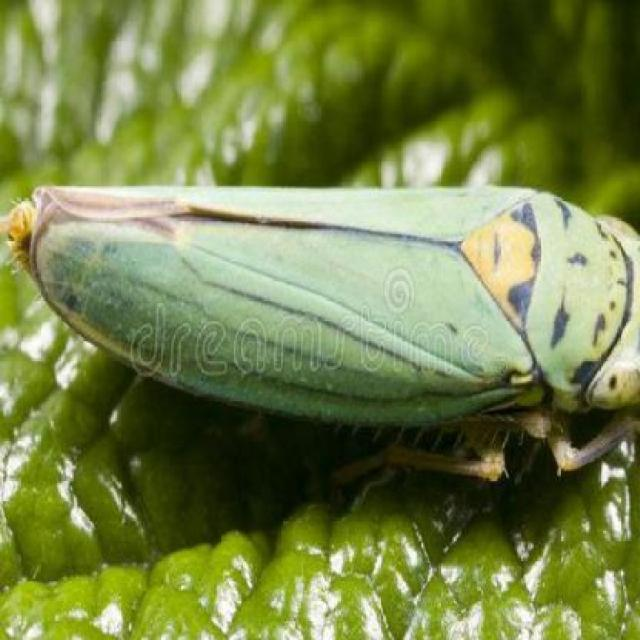green-leafhopper: (22, 176, 632, 450)
